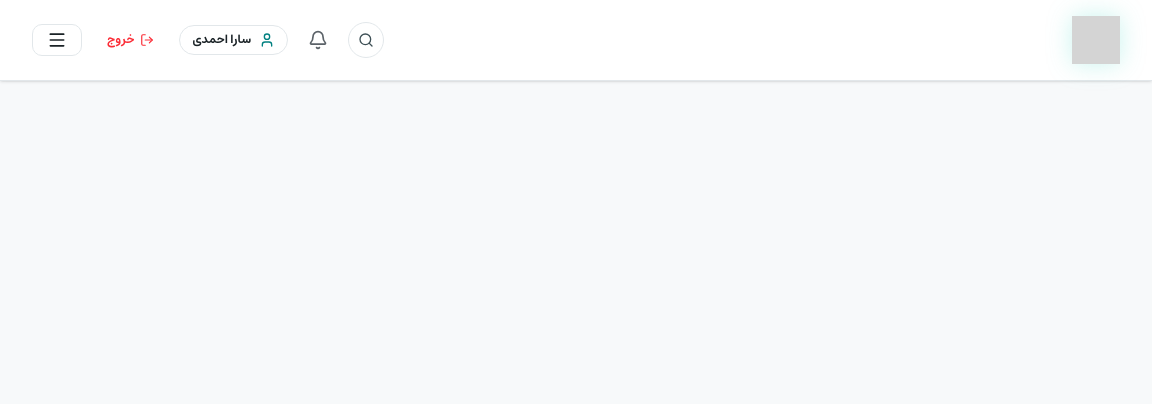
Test: AuthenticatedShell › opens user account dropdown with 'دعوت از دوستان' linking to /account/referral when profile chip is clicked
The width and height of the screenshot is (1152, 404).
Click the link "سارا احمدی" at (234, 40), box [179,25,288,55]
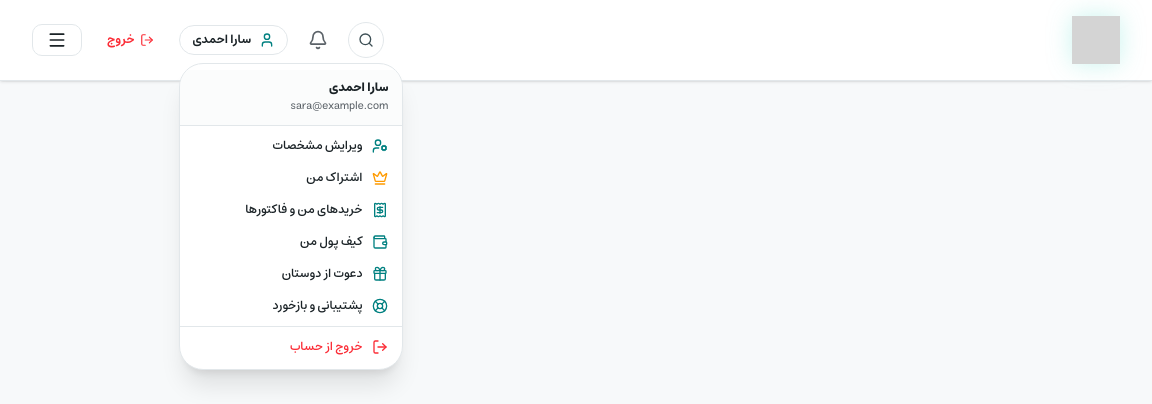
expect the link "دعوت از دوستان" is shown: met, box [282,262,388,284]
